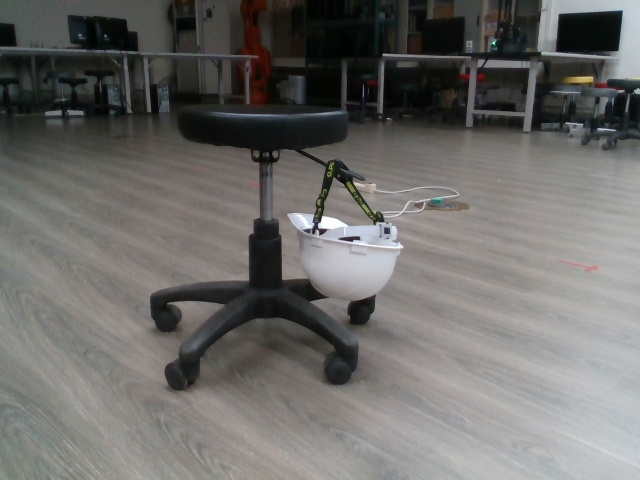helmet: (288, 205, 405, 300)
